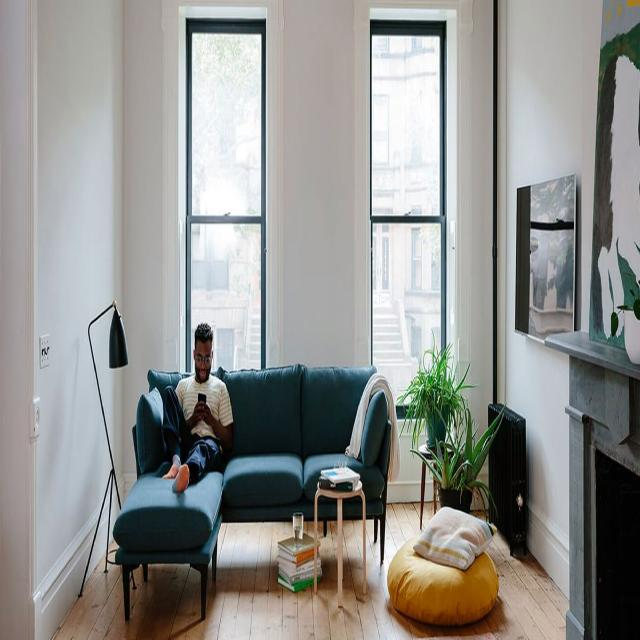adult: (163, 323, 232, 494)
